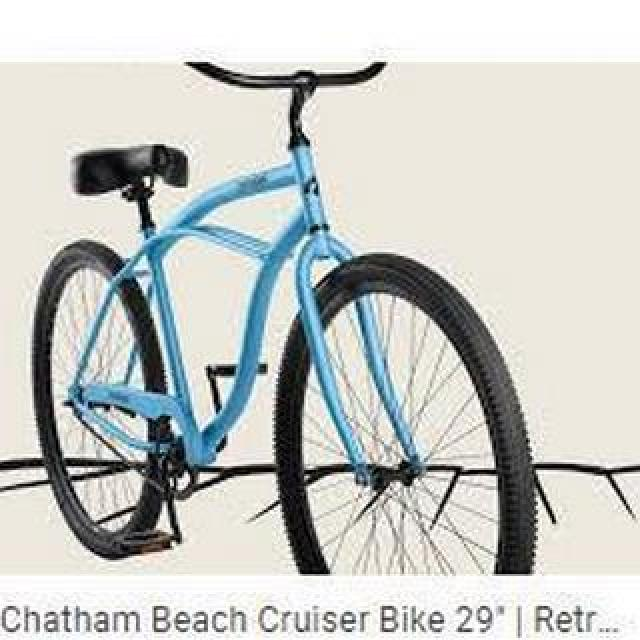Person: (26, 60, 540, 578)
